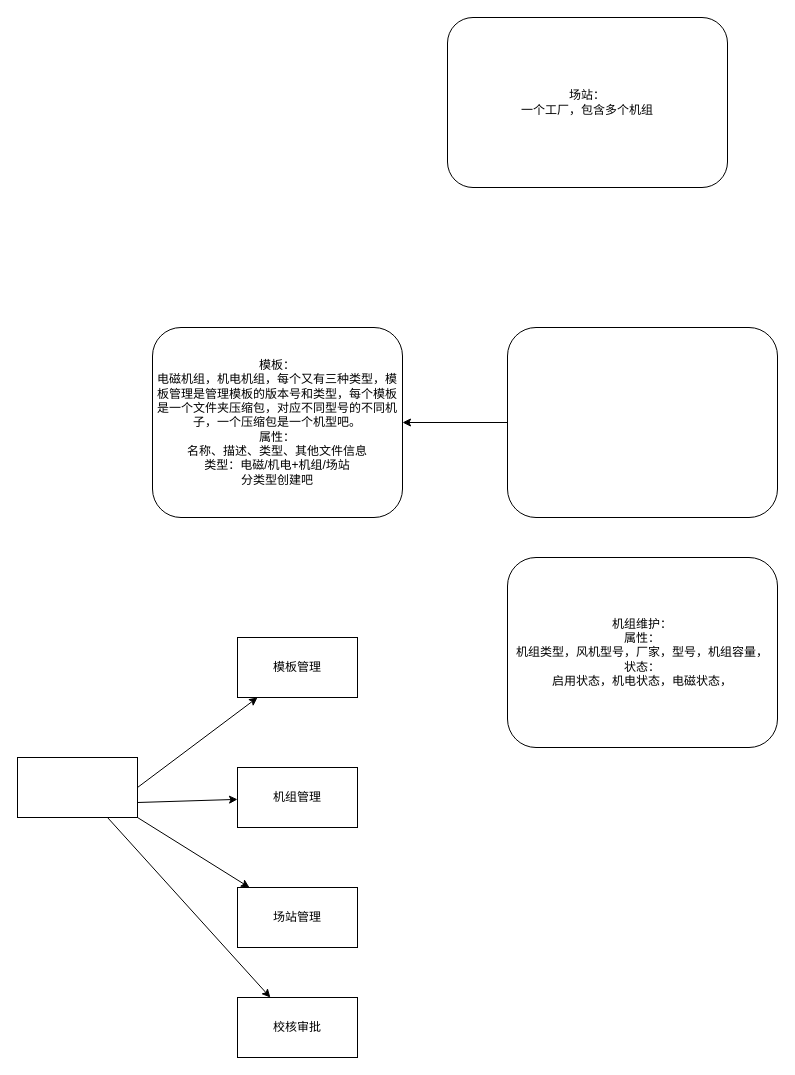
Image size: 795x1075. Some labels were removed from this diagram. Here are the shapes that lost their labels. From the top down, the centre of each, then its label:
At (642,422): "机组： 一组机器，包含多种类型，一般以机组为单位生成报告，一个机组使用一个模板生成报告这种？".
At (77,787): "业务管理".
